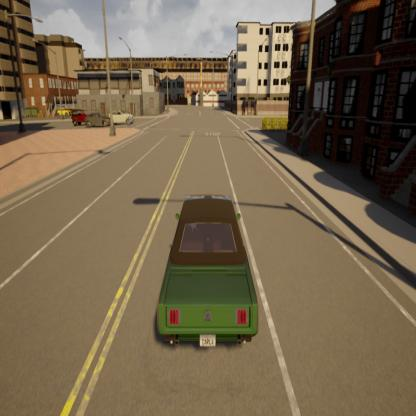Cars: (155, 189, 265, 365), (82, 109, 112, 130), (108, 106, 136, 128), (68, 104, 92, 129), (56, 102, 73, 119)
